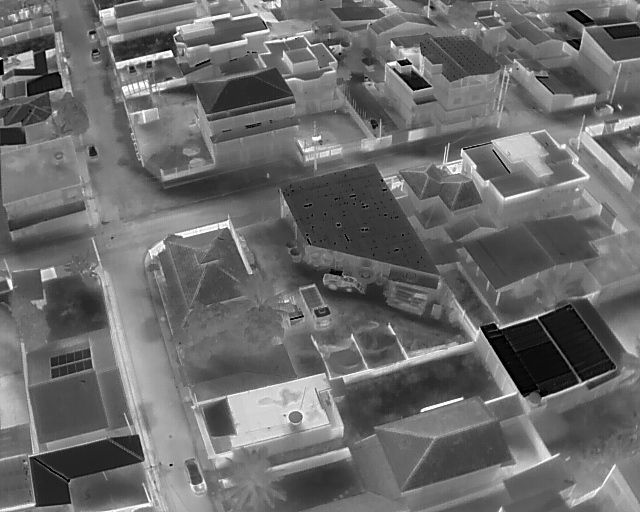car: (187, 455, 204, 499), (367, 113, 385, 138), (84, 141, 102, 161), (591, 101, 614, 116), (122, 59, 138, 77), (87, 45, 103, 63), (84, 27, 100, 45), (423, 0, 438, 19), (142, 57, 158, 74)
person: (615, 100, 626, 112)
truck: (304, 282, 327, 331), (335, 257, 358, 304), (281, 286, 300, 331)
